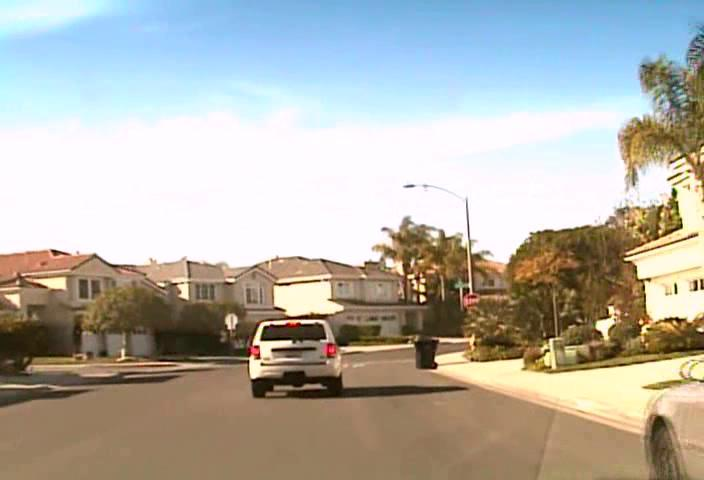stop: (462, 292, 481, 310)
